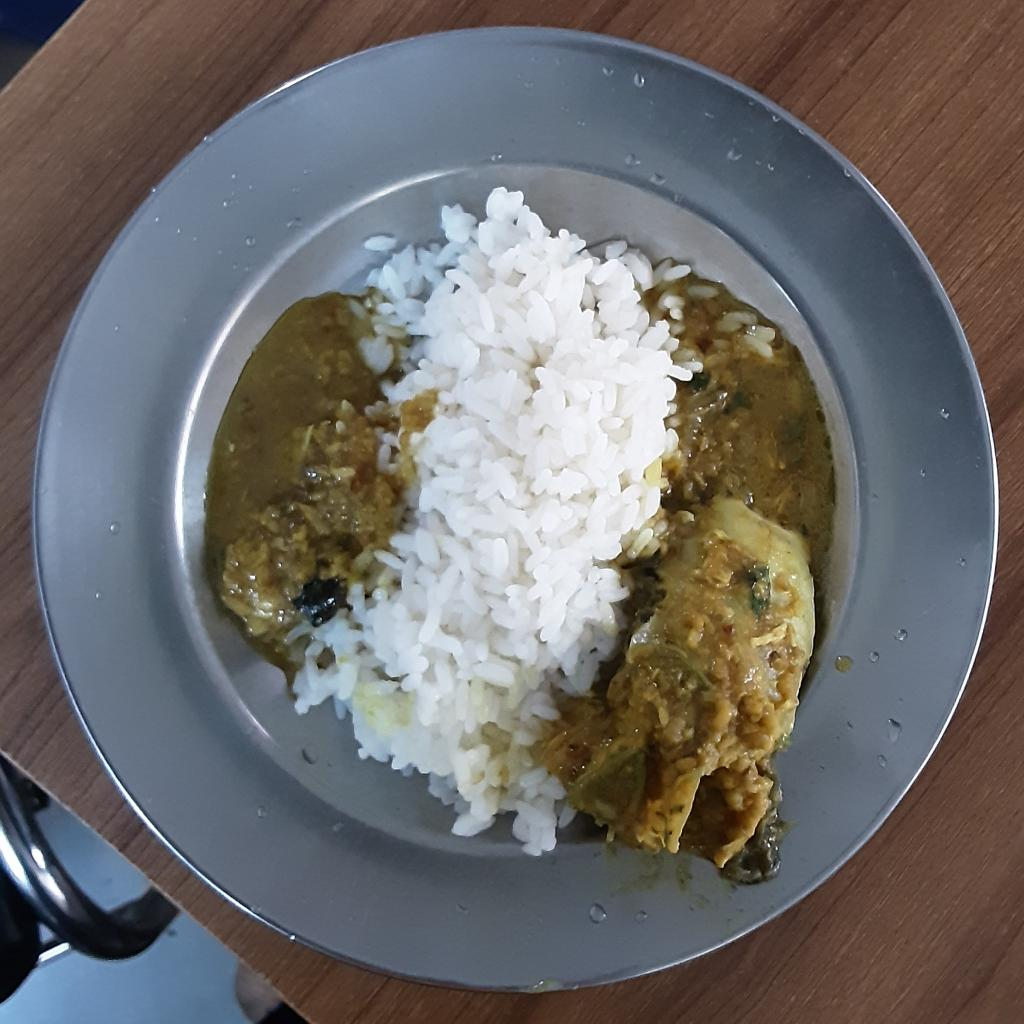daal: (203, 290, 409, 700)
fish: (538, 331, 841, 884)
rice: (288, 189, 778, 854)
